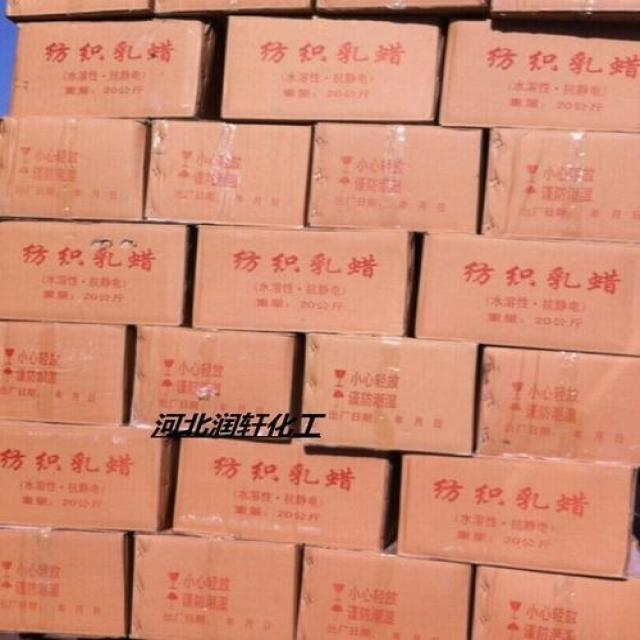box: (394, 455, 637, 577), (415, 233, 640, 356), (191, 226, 417, 337), (173, 437, 394, 550), (220, 15, 447, 122), (439, 19, 640, 134), (297, 333, 477, 457), (475, 344, 640, 469), (12, 16, 216, 115), (0, 220, 189, 325), (306, 122, 483, 234), (0, 421, 170, 535), (127, 534, 303, 640), (131, 324, 294, 438), (479, 129, 640, 244), (145, 122, 314, 227), (293, 546, 470, 640), (0, 117, 152, 220), (0, 527, 127, 640), (0, 322, 129, 426), (470, 563, 640, 640), (5, 0, 151, 22), (492, 0, 640, 20), (316, 0, 488, 15), (152, 0, 310, 16)
